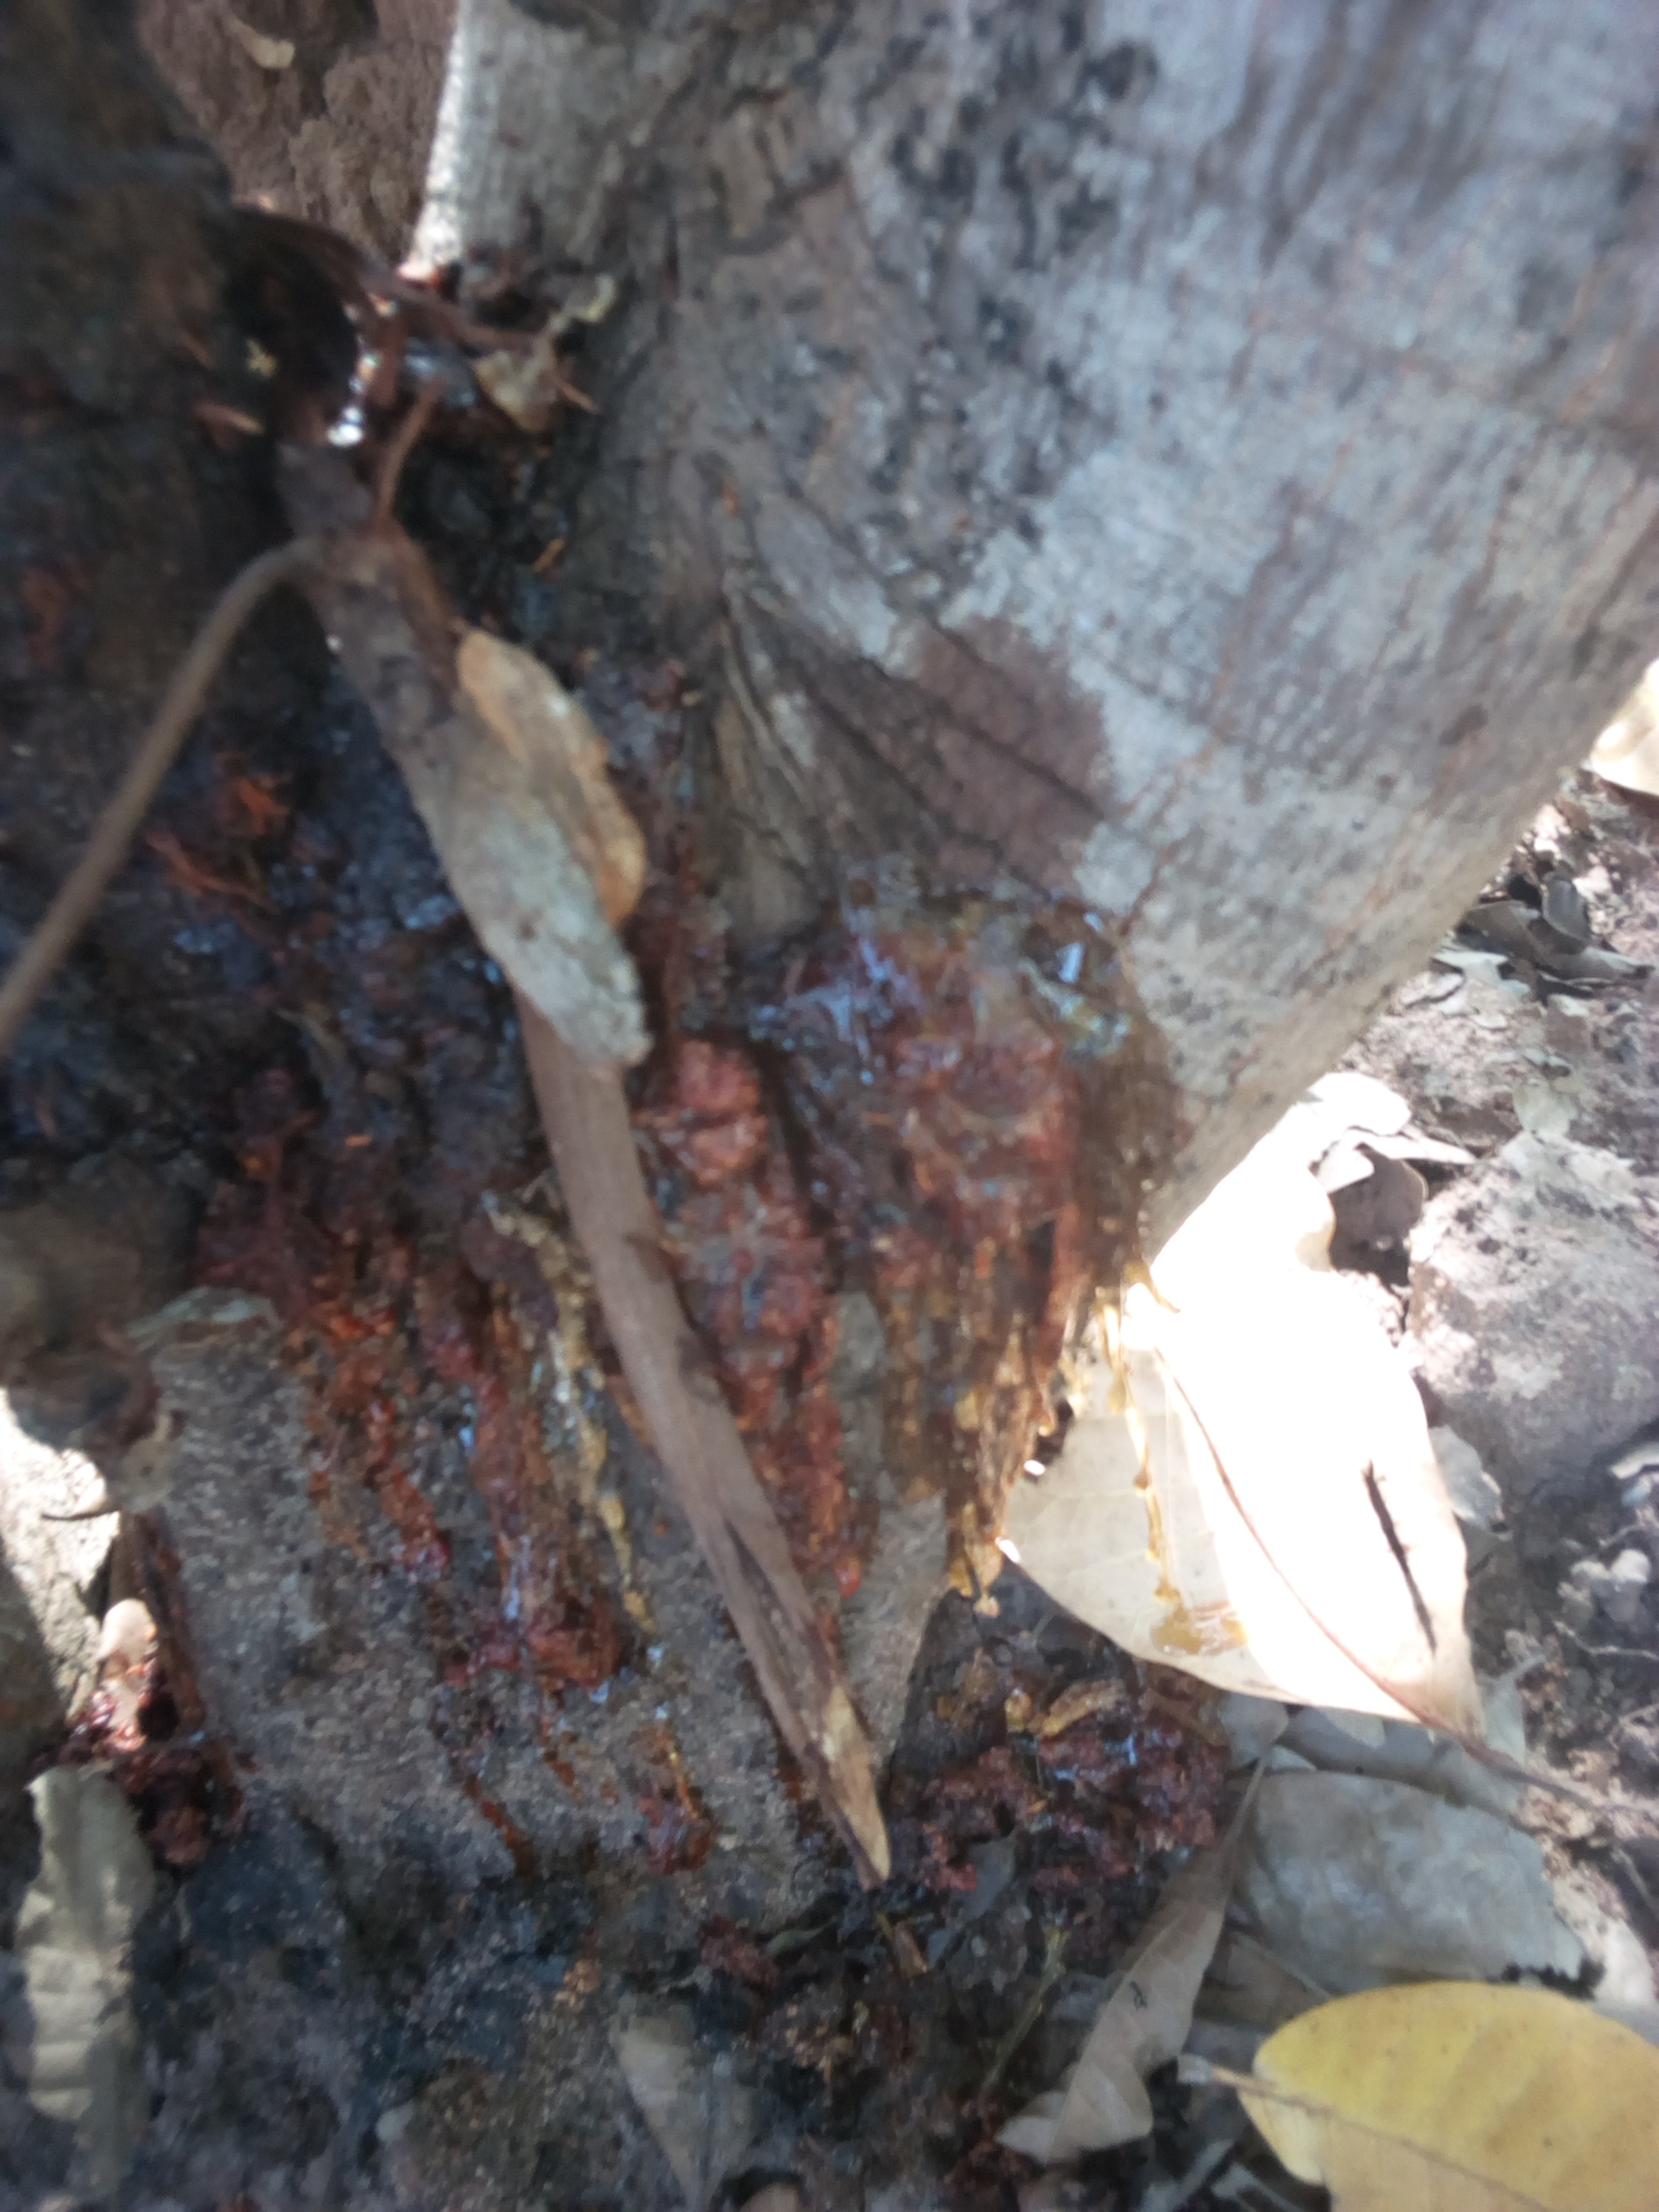Gommose: (213, 841, 622, 1672), (786, 895, 1141, 1475)
